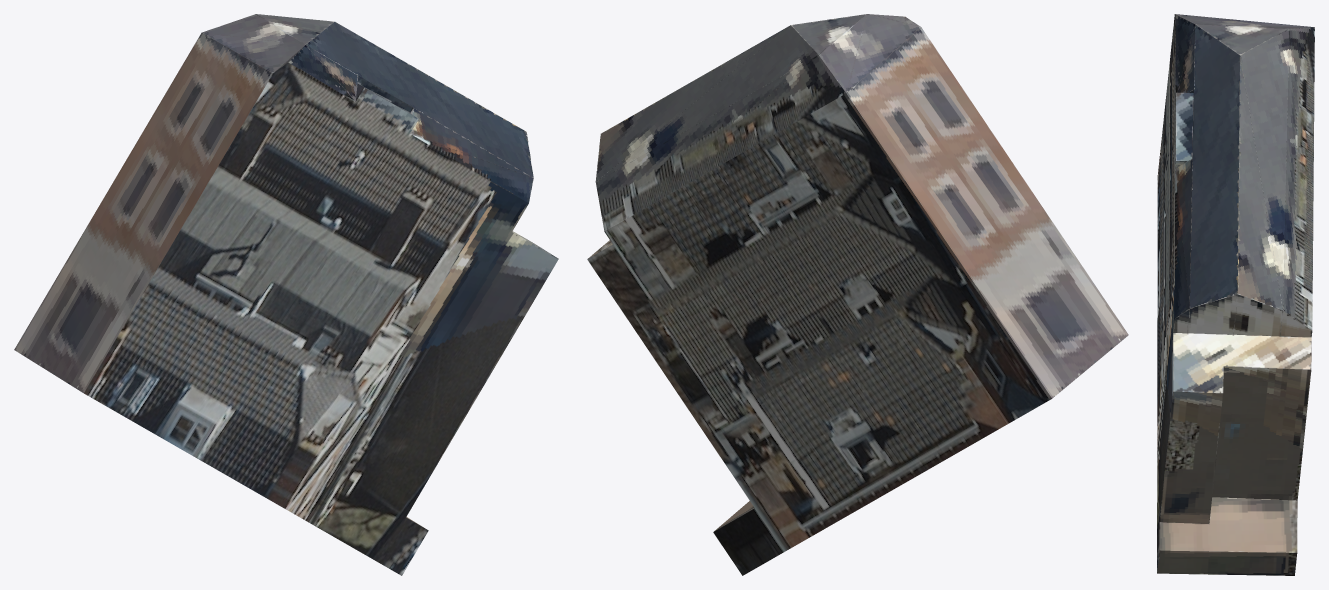
3 views of the same model, side by side, from view 1: azimuth 30°, elevation 25°; view 2: azimuth 150°, elevation 25°; view 3: azimuth 270°, elevation 25° (orthographic). The views are drawn at different scales.
Parts seen in each view (by area): view 1: BAG_0599100000671708 (×4); view 2: BAG_0599100000671708 (×3); view 3: BAG_0599100000671708 (×4).
Boxes of the visible parts, left/top/right/bottom form: BAG_0599100000671708 (×4): left=14, top=14, right=558, bottom=575; BAG_0599100000671708 (×3): left=587, top=14, right=1128, bottom=575; BAG_0599100000671708 (×4): left=1157, top=14, right=1314, bottom=575.
Bounding box in the file's own units: 19.11 × 20.34 × 5.62.
4 materials, 4 textured.
